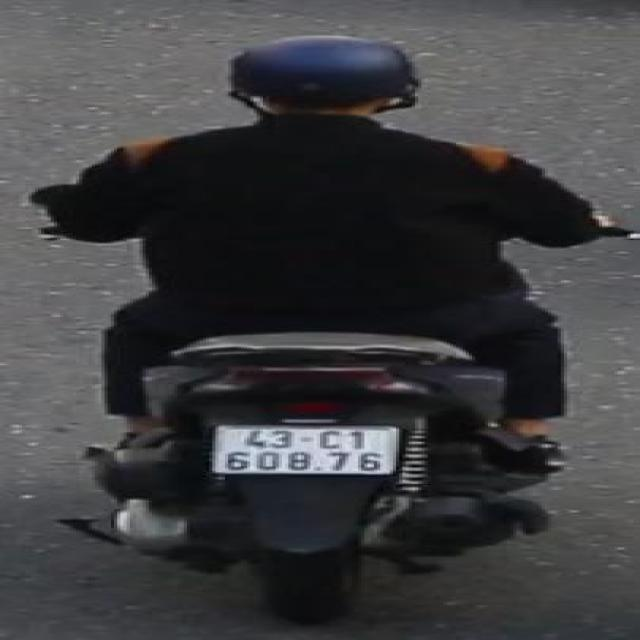LP: (202, 424, 408, 483)
helmet: (223, 31, 432, 137)
